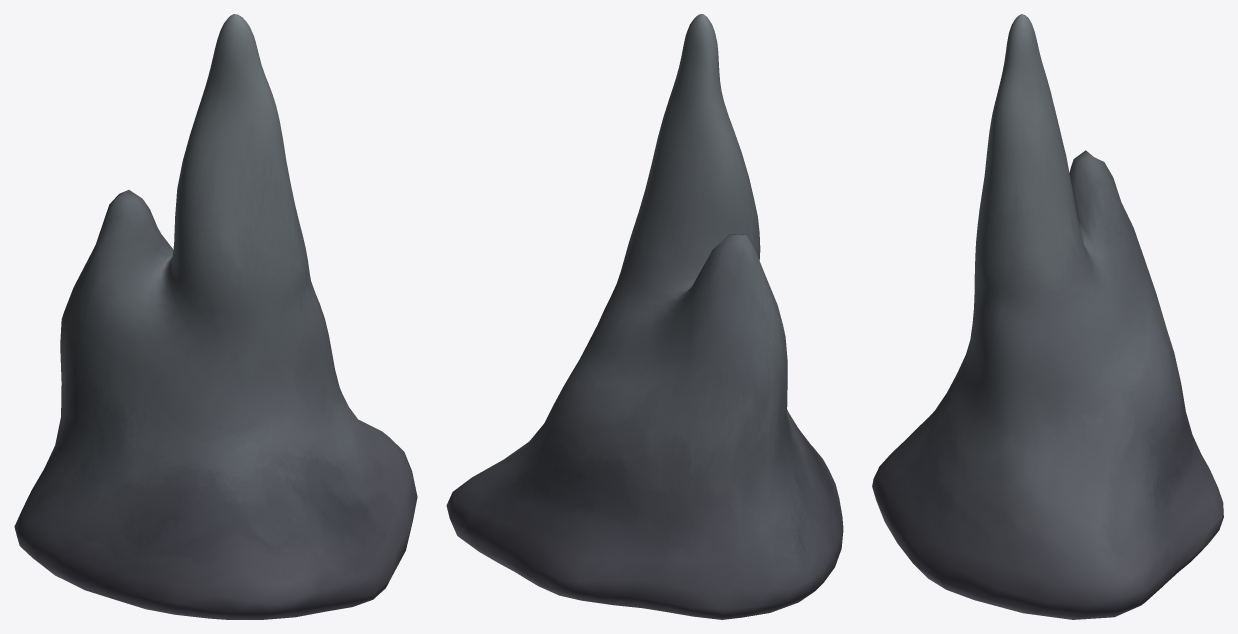
File: Stalac2.fbx
The picture shows the model from 3 angles, left to right: view 1: azimuth 30°, elevation 25°; view 2: azimuth 150°, elevation 25°; view 3: azimuth 270°, elevation 25°; orthographic projection. The views are drawn at different scales.
Parts seen in each view (by area): view 1: Stalac2; view 2: Stalac2; view 3: Stalac2.
Part boxes in pixels (<box>): Stalac2: <box>14,14,417,619</box>; Stalac2: <box>446,14,843,619</box>; Stalac2: <box>872,14,1223,619</box>.
Size of the model in its own units: 143 by 209 by 124.
Materials: 1 (1 with a texture image).
